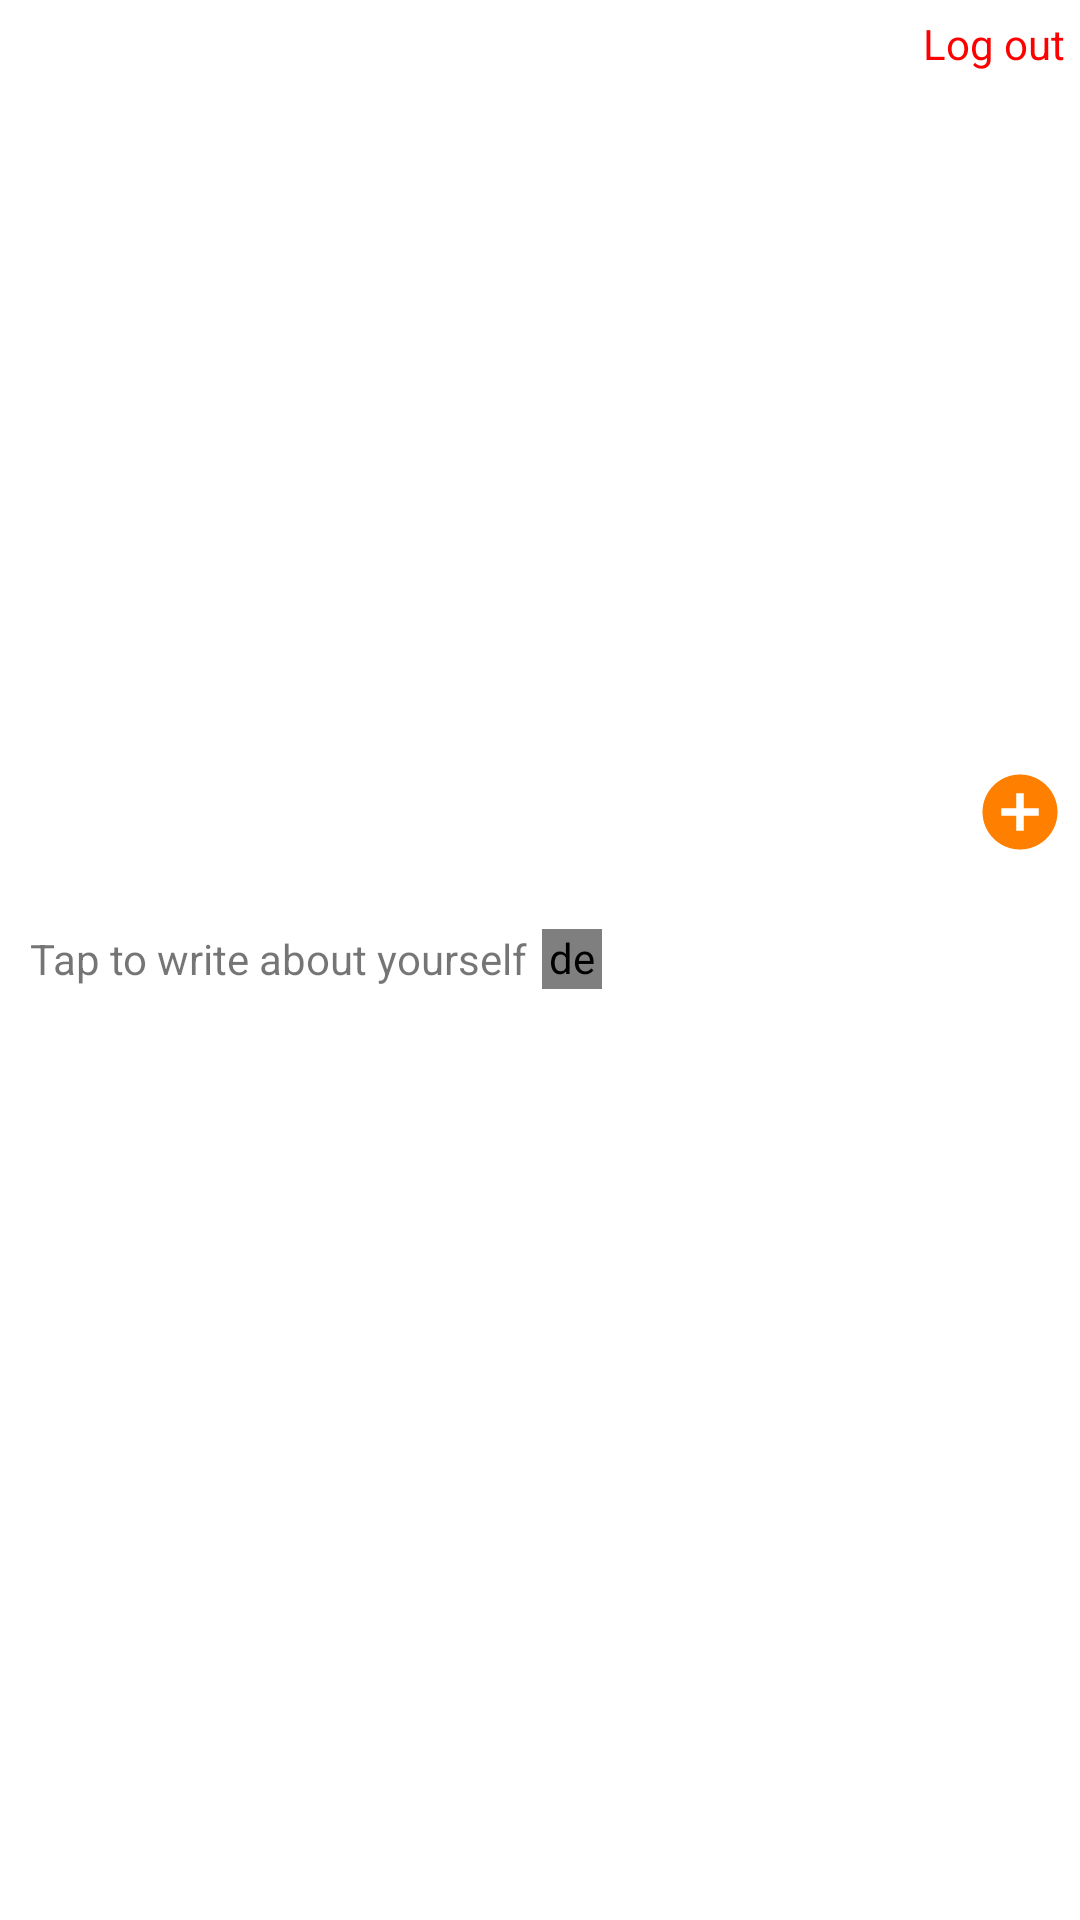

Screen size 1080 × 1920. Icon name, then its box in pixels as (x1=x1, y1=y1, x2=x2, y2=y2):
add circle: (x1=982, y1=774, x2=1058, y2=850)
